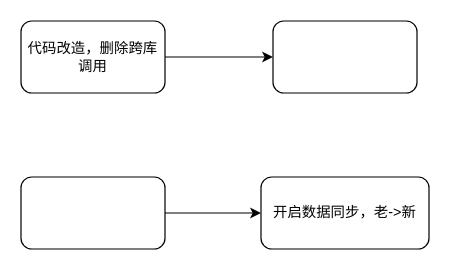
The diagram is 450 pixels wide and 270 high, and some of its shapes have lost their labels. The centre of each missing label's shape, as x and y in pixels:
修改CRM JDBC连接指向新库: the point at 344,56
新增MYSQL: the point at 92,212
